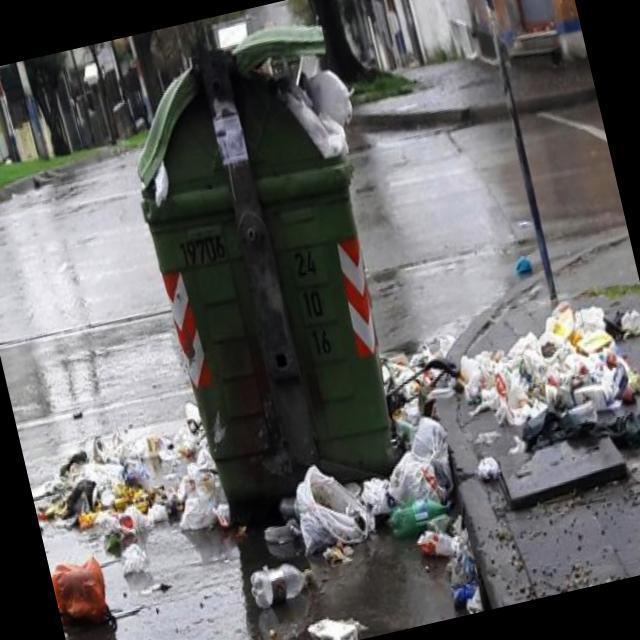garbage: (427, 269, 640, 530), (364, 316, 496, 622), (18, 392, 240, 570), (248, 448, 415, 579), (256, 28, 365, 176), (46, 545, 128, 640), (240, 548, 323, 620), (297, 594, 378, 640), (137, 155, 182, 225), (501, 235, 542, 294)
